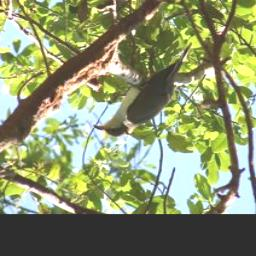Cuckoo: (91, 42, 191, 137)
